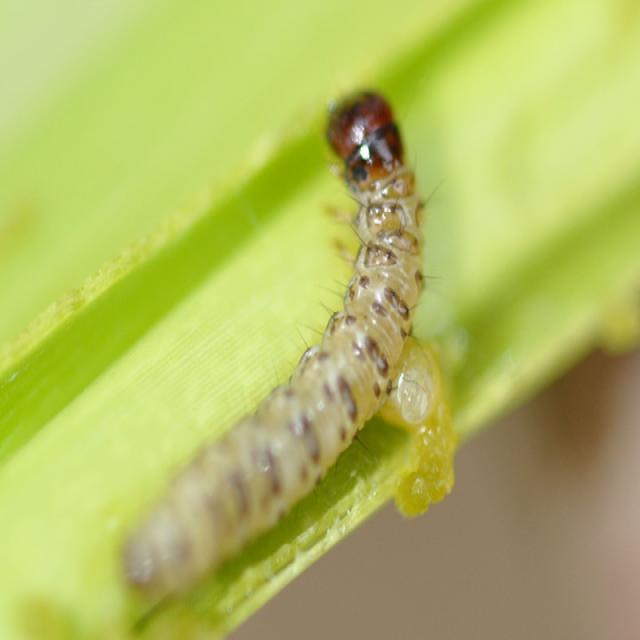cornborer-Larva-: (107, 80, 484, 596)
